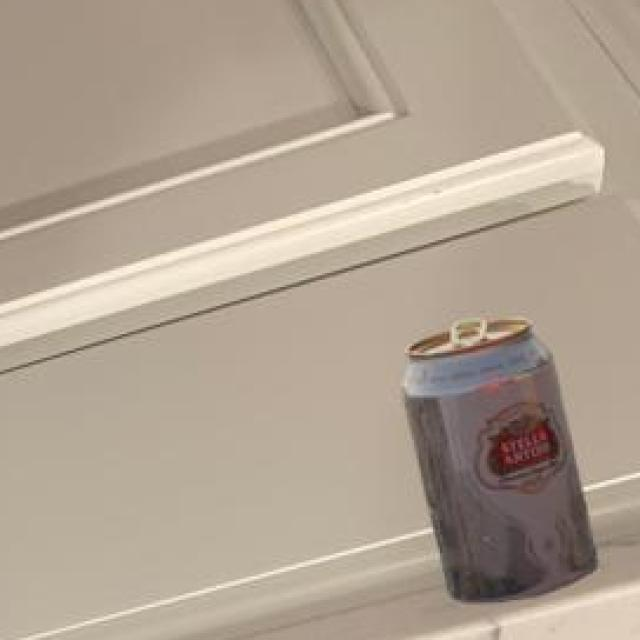logam: (406, 321, 601, 606)
